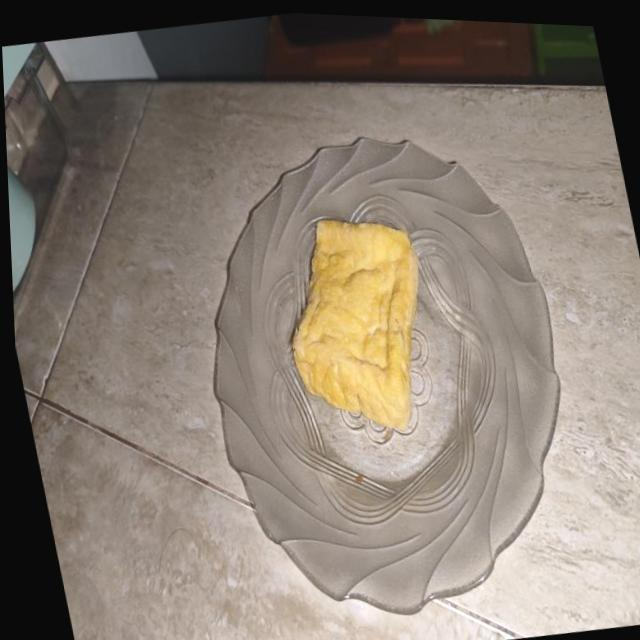tahu_goreng: (292, 220, 418, 432)
